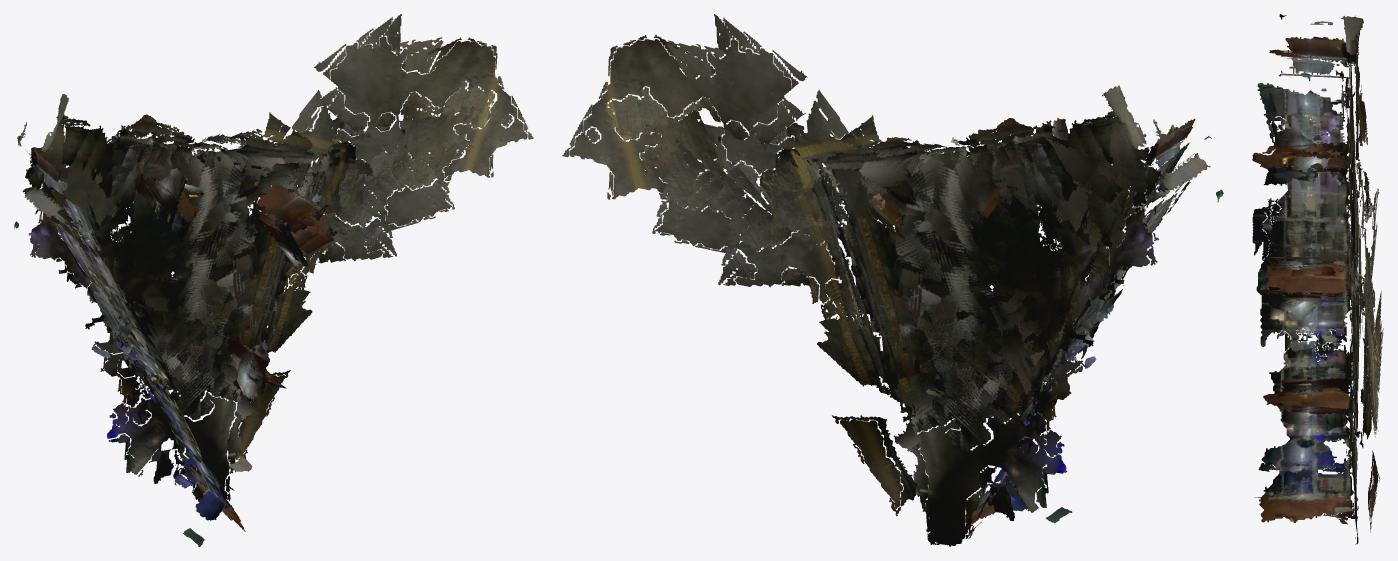
The model's file is outside.glb.
3 renders of one model, left to right at view 1: azimuth 30°, elevation 25°; view 2: azimuth 150°, elevation 25°; view 3: azimuth 270°, elevation 25°, orthographic. The views are drawn at different scales.
Size of the model in its own units: 24.08 by 18.57 by 4.9.
20 materials, 18 textured.
